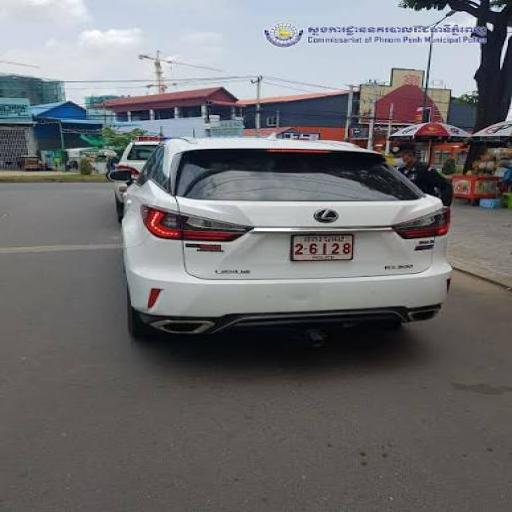Plate Number: (290, 232, 358, 262)
